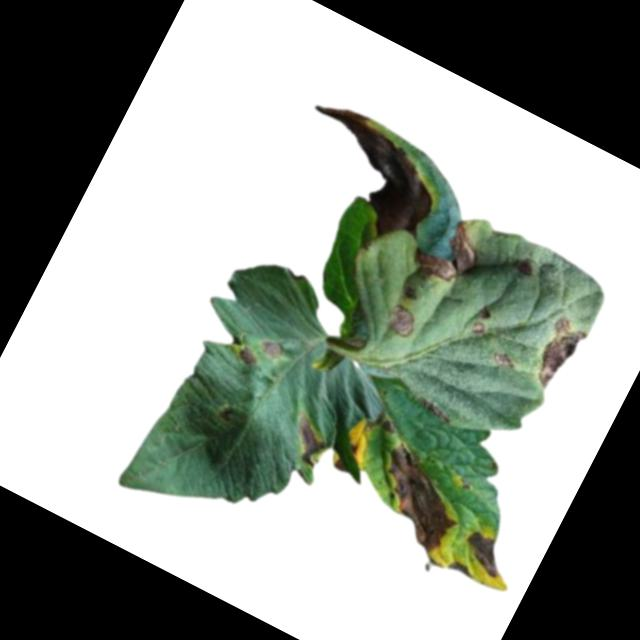Early_blight: (272, 94, 455, 254), (356, 438, 478, 559), (407, 210, 491, 296), (523, 312, 591, 398), (454, 525, 516, 584), (282, 411, 333, 468), (384, 303, 424, 343), (418, 395, 453, 423), (489, 349, 521, 378), (256, 335, 284, 361), (234, 346, 259, 371), (445, 559, 473, 581), (344, 436, 366, 461), (468, 319, 490, 342)
